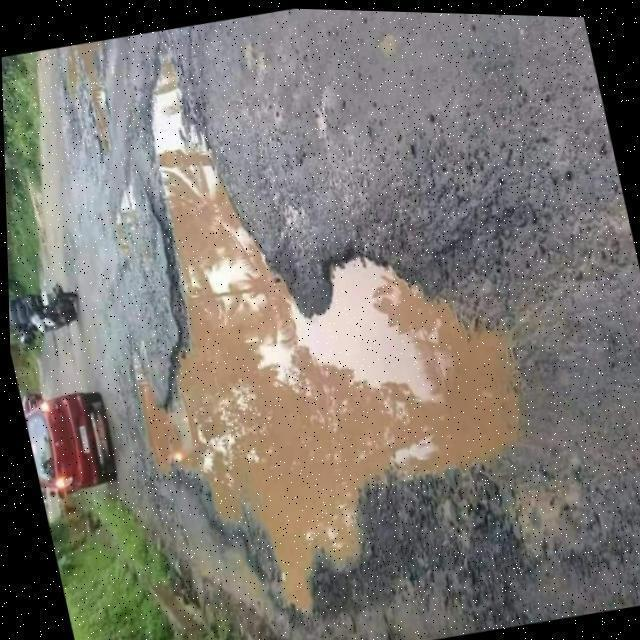Pothole: (131, 48, 519, 613)
